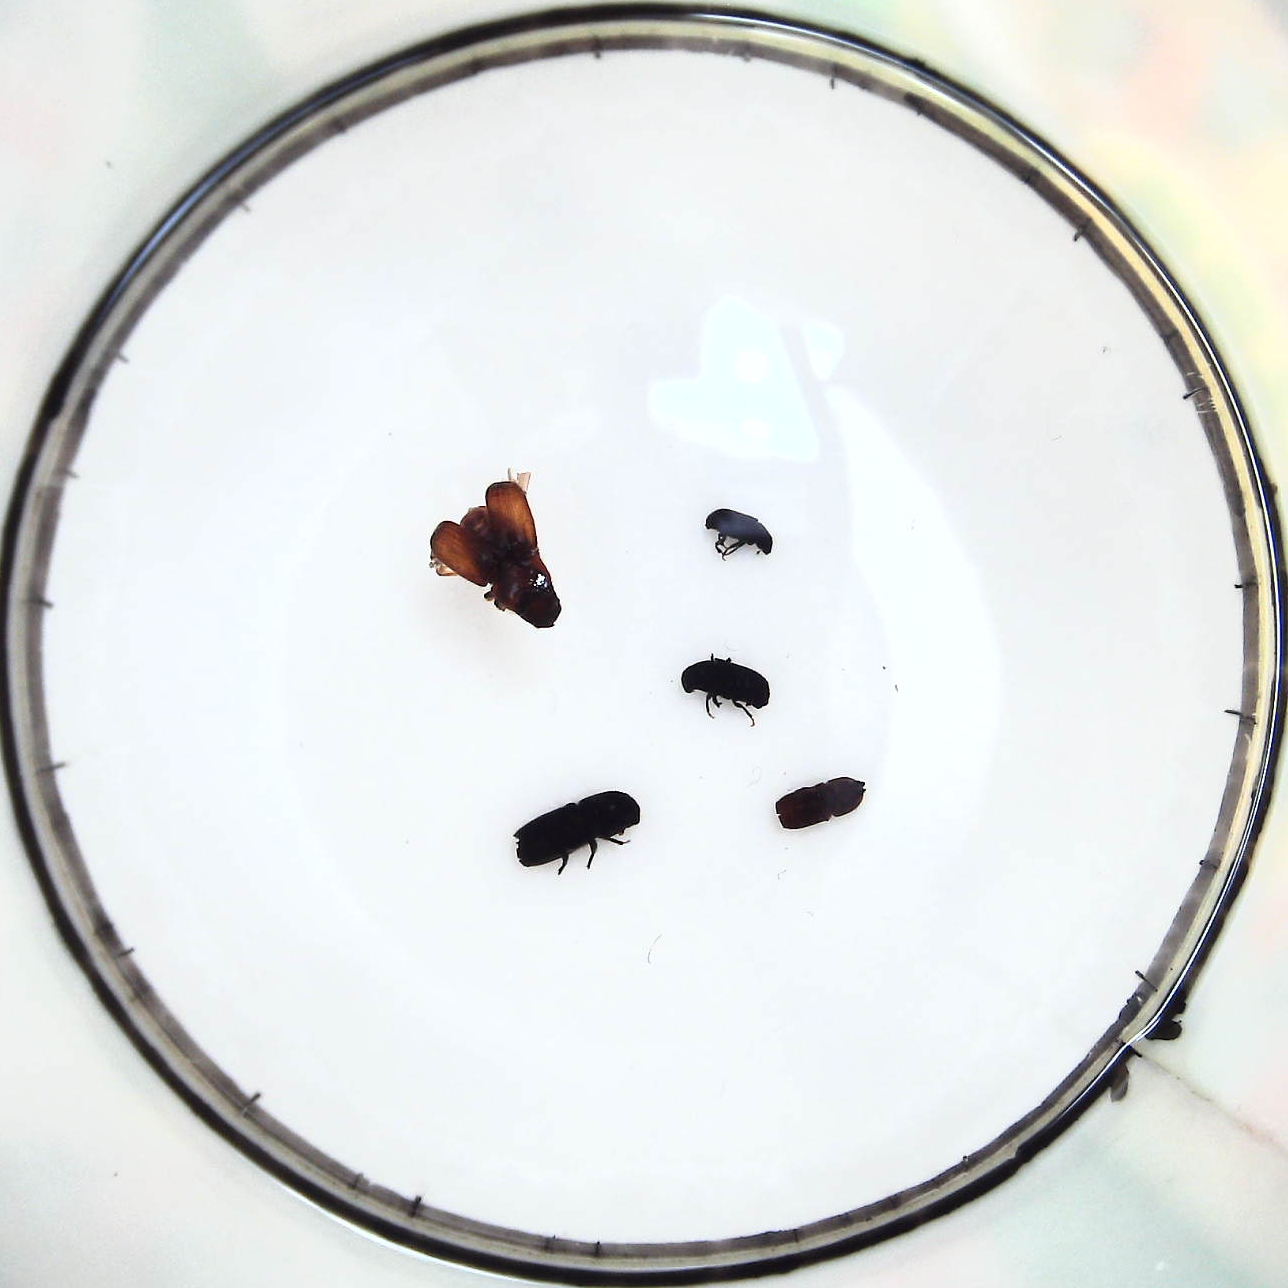Boerner: (510, 788, 635, 867)
Leconte: (431, 486, 569, 632)
Linnaeus: (767, 774, 867, 835)
armandi: (684, 653, 776, 715)
coleoptera: (696, 508, 774, 554)
